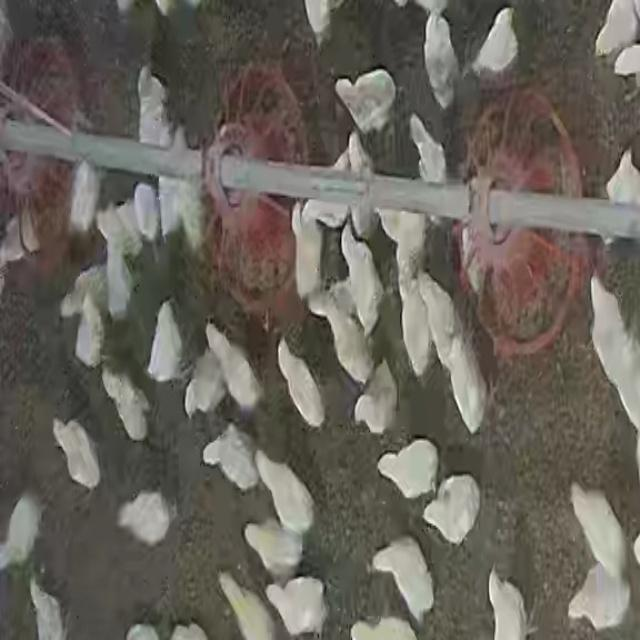chicken: (587, 275, 639, 434), (202, 320, 263, 418), (371, 535, 435, 627), (567, 481, 625, 581), (96, 203, 140, 322), (339, 217, 383, 335), (253, 452, 316, 534), (276, 332, 326, 428), (420, 472, 482, 547), (319, 296, 370, 386), (564, 558, 628, 628), (216, 572, 282, 638), (334, 70, 397, 137), (376, 438, 440, 502), (199, 424, 261, 490), (100, 364, 151, 442), (49, 418, 102, 492), (264, 575, 328, 635), (447, 336, 485, 436), (116, 487, 179, 547), (418, 276, 458, 370), (242, 522, 306, 579), (144, 302, 188, 384), (470, 8, 520, 80), (423, 9, 459, 105), (355, 358, 399, 436), (378, 207, 428, 275), (397, 274, 431, 372), (292, 200, 325, 300), (2, 493, 44, 570), (486, 570, 533, 638), (185, 344, 228, 414), (136, 66, 172, 148), (74, 285, 108, 369), (406, 113, 446, 182), (55, 265, 108, 315), (595, 1, 639, 58), (156, 173, 192, 241), (296, 191, 357, 231), (604, 145, 640, 210), (29, 576, 64, 638), (0, 216, 46, 258), (70, 162, 96, 232), (133, 181, 161, 241), (0, 216, 31, 270), (302, 2, 336, 45), (168, 621, 209, 640), (126, 622, 161, 640)
